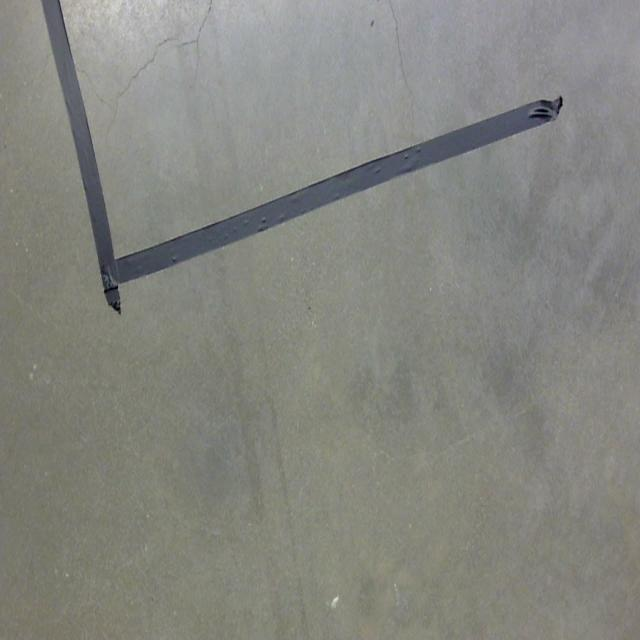tape: (38, 2, 563, 316)
